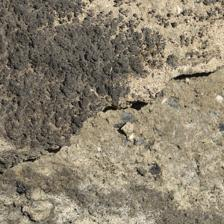Crack: (5, 33, 214, 136)
